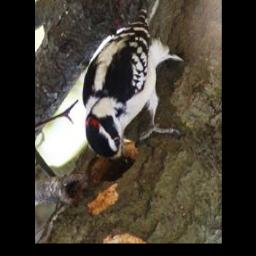Woodpecker: (82, 0, 184, 166)
